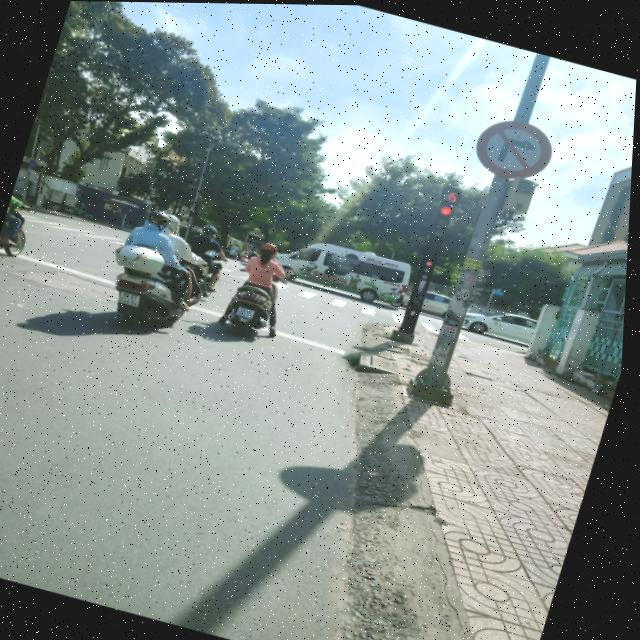Red: (431, 201, 460, 240), (417, 254, 440, 286)
